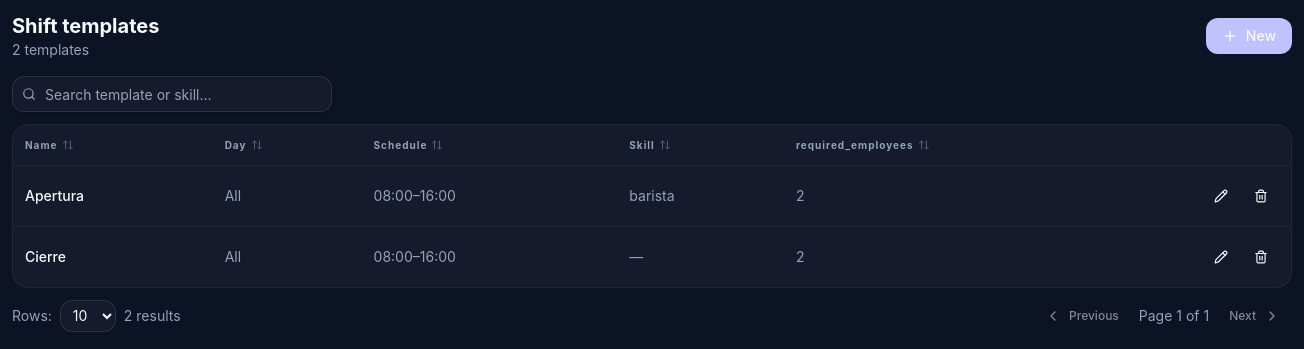
it: TemplatesPage › muestra el nombre de la skill resuelto en la columna y permite filtrarlo
This screenshot has width=1304, height=349.
Expected: the text "Apertura" is shown, left=25, top=186, right=84, bottom=204
Expected: the text "barista" is shown, left=629, top=186, right=675, bottom=204
Note: El search global filtra por skill (sin tocar UUID).
Type "barista" into the field with test id "datatable-search".
click(172, 94); type("barista")  # box left=12, top=76, right=332, bottom=112
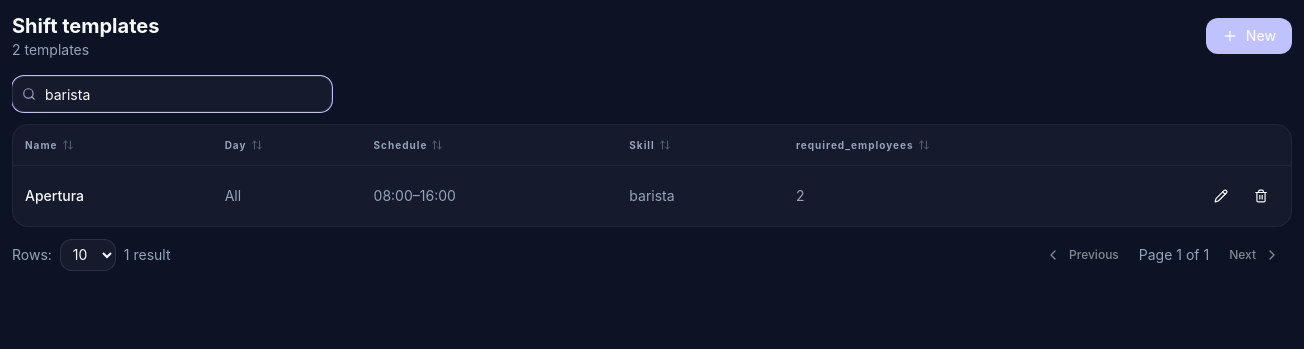
Expected: the text "Apertura" is shown, left=25, top=186, right=84, bottom=204
Expected: the text "Cierre" is gone
